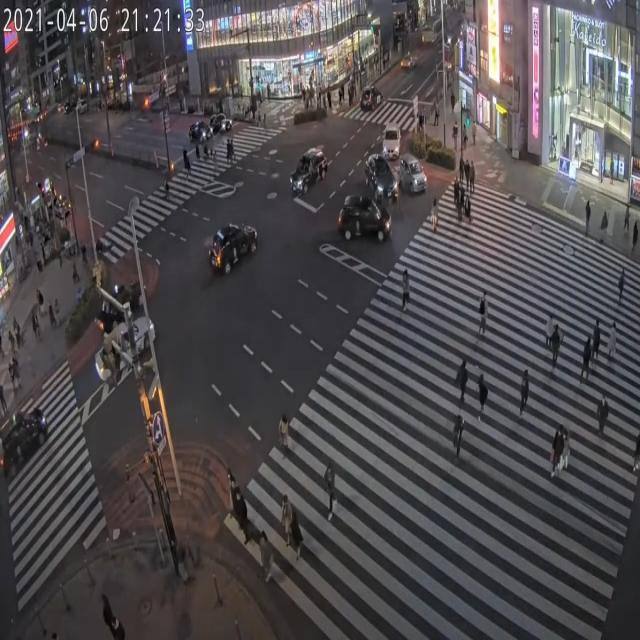humans: (318, 457, 342, 522), (258, 526, 278, 598), (224, 465, 243, 524), (453, 348, 469, 418), (451, 413, 470, 466), (518, 359, 532, 422), (589, 314, 603, 374), (233, 490, 249, 539), (279, 492, 291, 555), (548, 324, 564, 368), (280, 404, 292, 461), (631, 412, 640, 485), (598, 384, 608, 448), (398, 270, 411, 319), (547, 425, 560, 473), (580, 334, 592, 386), (476, 371, 487, 427), (292, 506, 301, 574), (430, 197, 442, 248), (583, 194, 593, 250), (478, 294, 489, 340), (598, 208, 610, 247), (562, 427, 572, 472), (616, 267, 626, 305), (608, 322, 616, 369), (460, 189, 468, 231), (464, 150, 471, 197), (547, 307, 554, 349), (465, 195, 473, 230), (468, 161, 476, 195), (453, 176, 459, 210), (458, 157, 464, 185)
